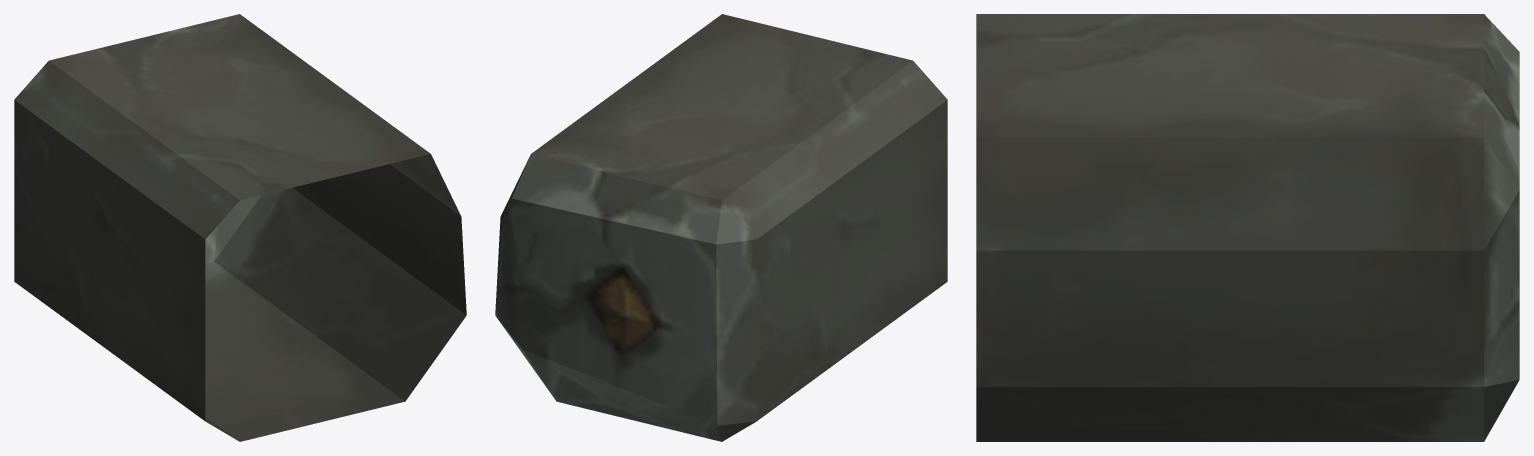
Rendered from yw_shanlin_doortop_25.FBX.
3 renders of one model, left to right at view 1: azimuth 30°, elevation 25°; view 2: azimuth 150°, elevation 25°; view 3: azimuth 270°, elevation 25°, orthographic. The views are drawn at different scales.
Visible parts, largest first — view 1: yw_shanlin_doortop_25; view 2: yw_shanlin_doortop_25; view 3: yw_shanlin_doortop_25.
Boxes of the visible parts, <box> form: yw_shanlin_doortop_25: <box>14,14,466,441</box>; yw_shanlin_doortop_25: <box>495,14,947,441</box>; yw_shanlin_doortop_25: <box>976,14,1519,441</box>.
Bounding box in the file's own units: 45.34 × 40.02 × 61.45.
